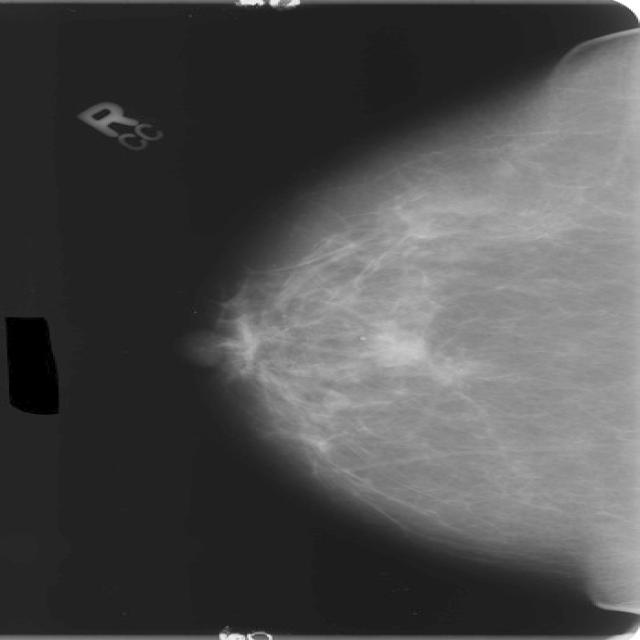tumour: (362, 325, 424, 367)
